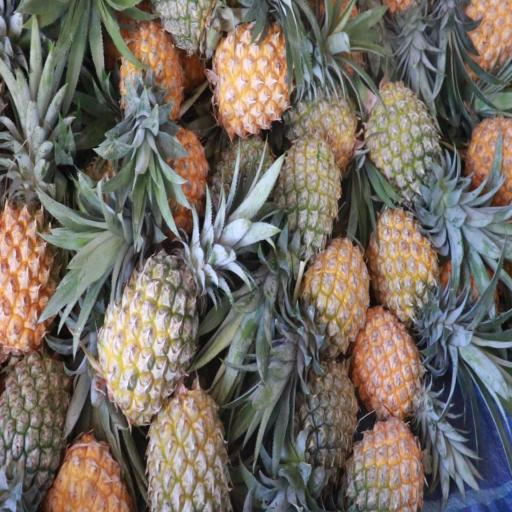------------------------------: (97, 256, 199, 424), (145, 386, 227, 512), (289, 68, 357, 168)
Pineapple - v8 v1: (0, 198, 63, 350), (217, 22, 299, 128), (372, 211, 445, 325), (354, 312, 423, 424), (305, 242, 370, 349), (118, 24, 183, 128), (51, 428, 128, 512), (156, 128, 208, 229)
